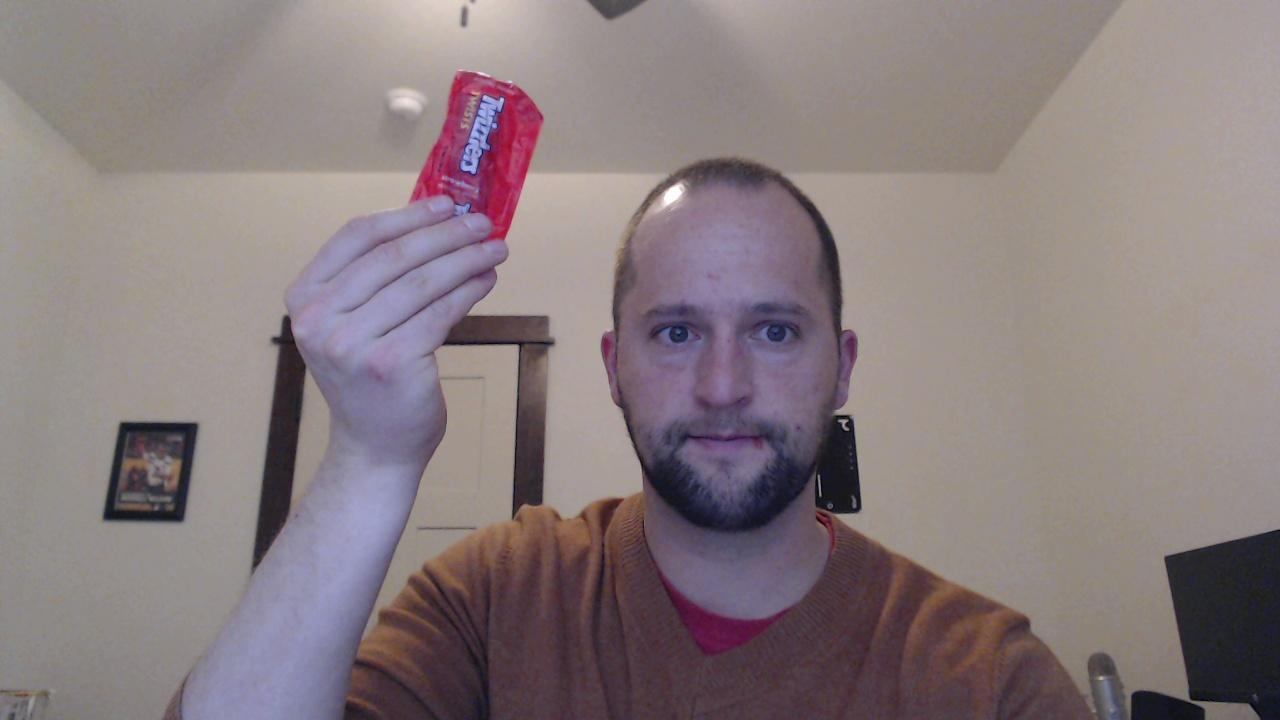twizzlers: (407, 71, 543, 243)
